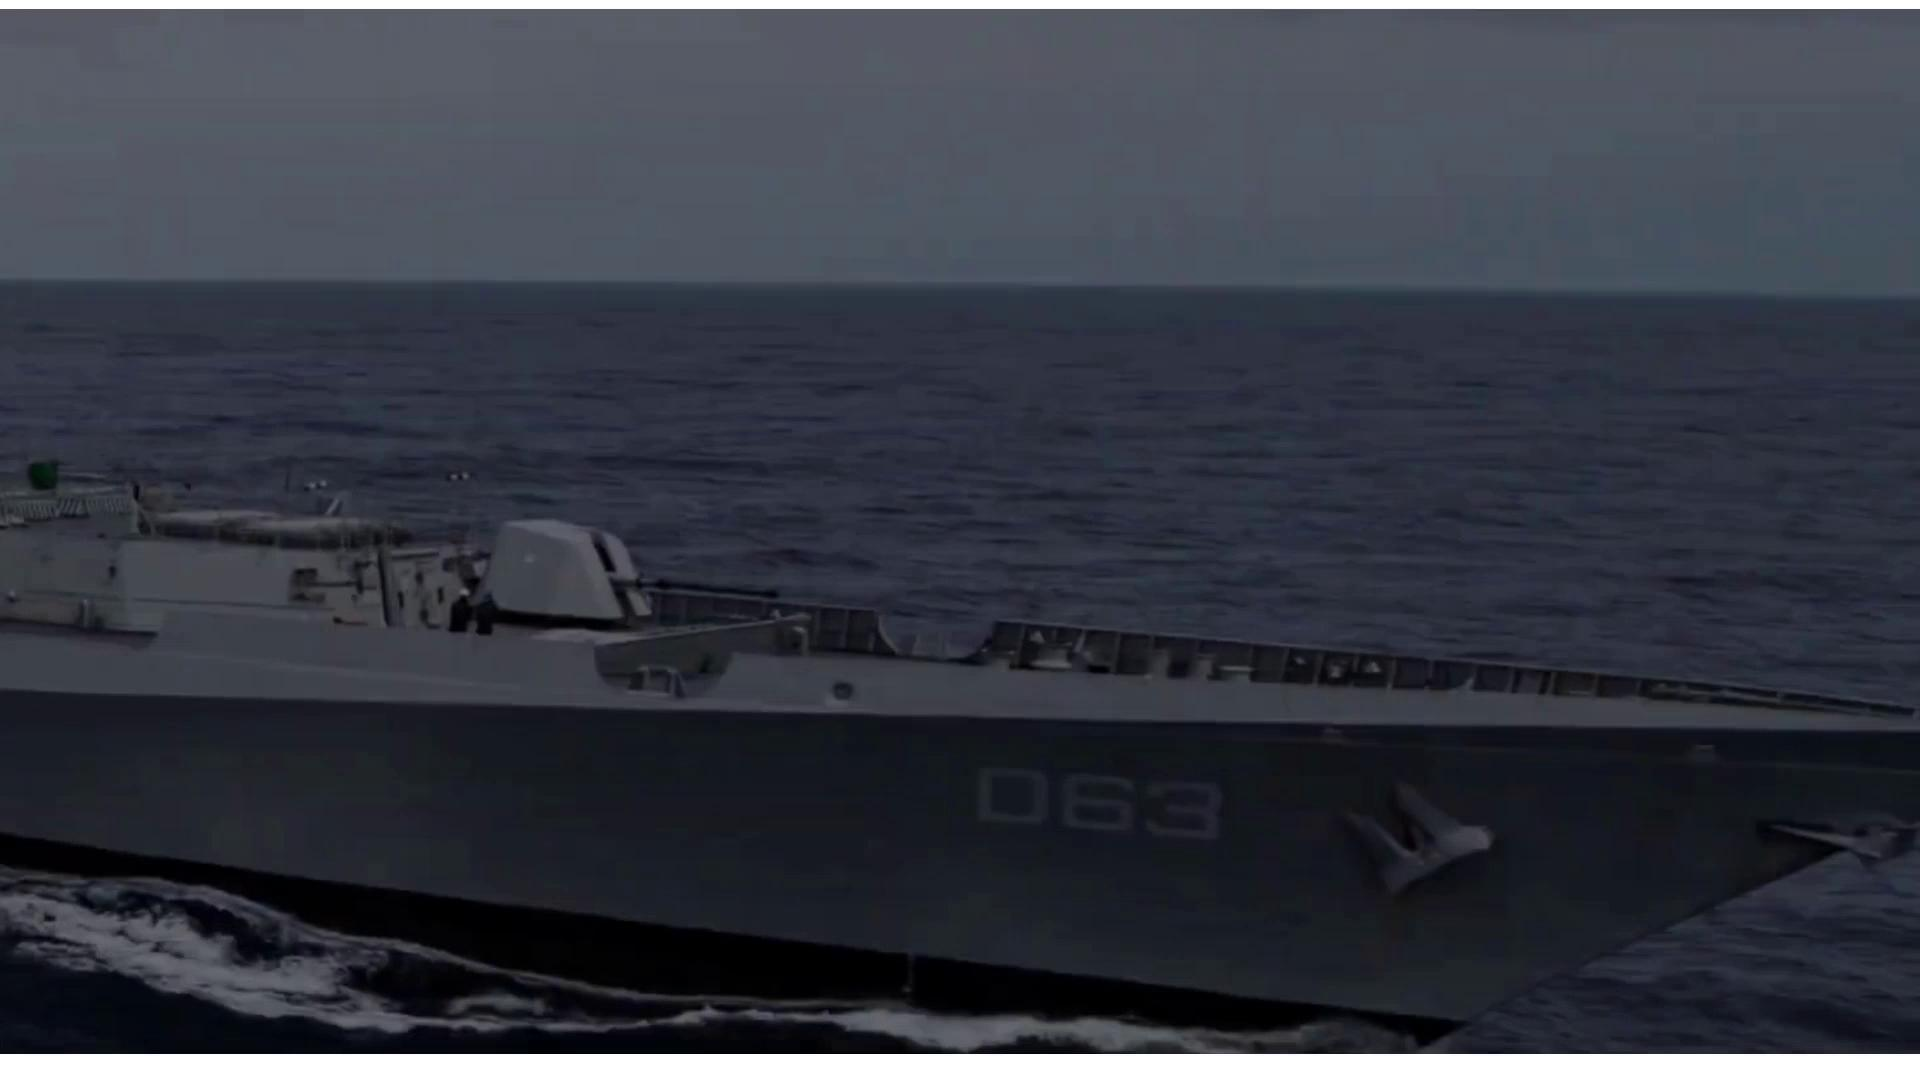OCR: (963, 749, 1222, 858)
